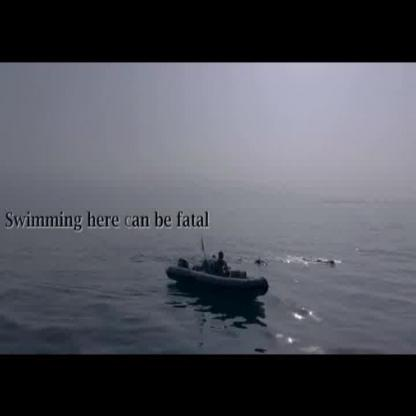Boat: (162, 243, 273, 303)
